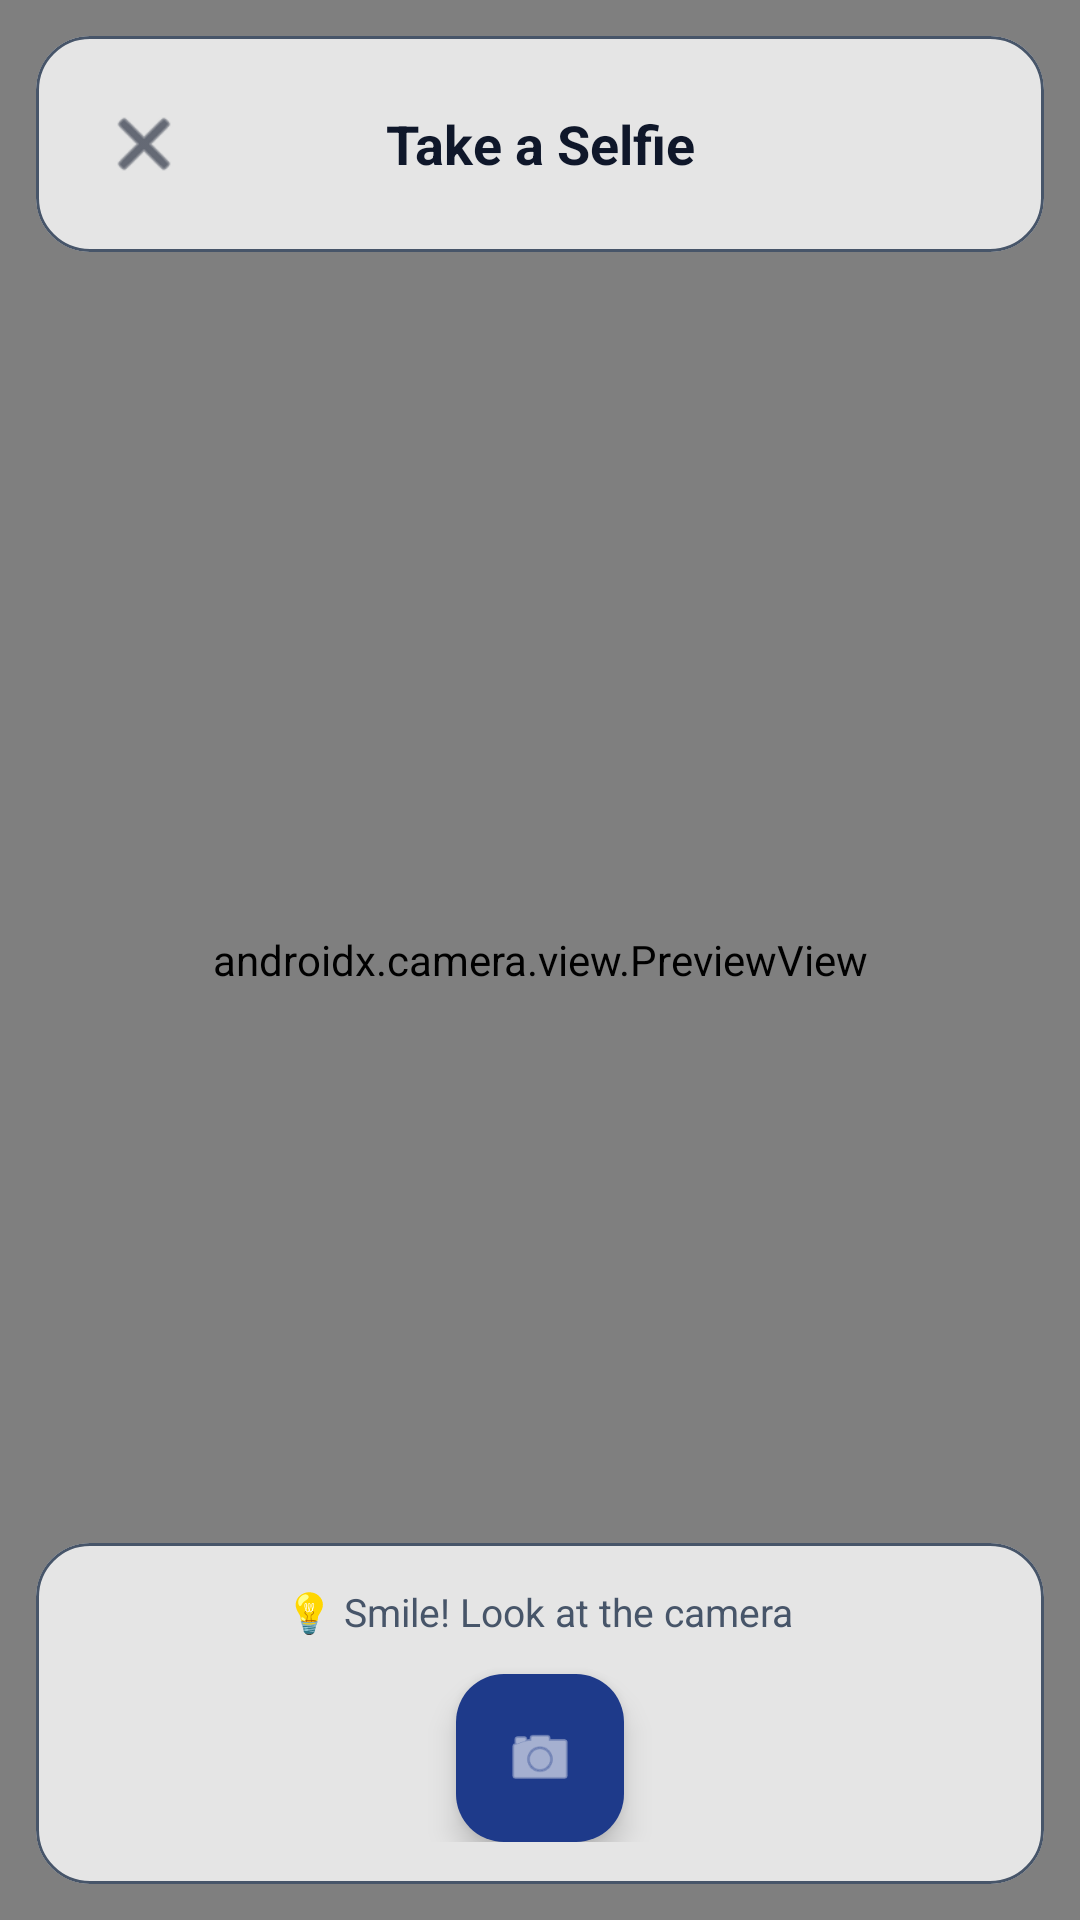

Where icons sit on this 1080x1920 app screen, as (x1, y1, x2, y2):
Close: (118, 118, 170, 170)
Take photo: (456, 1674, 624, 1842)
